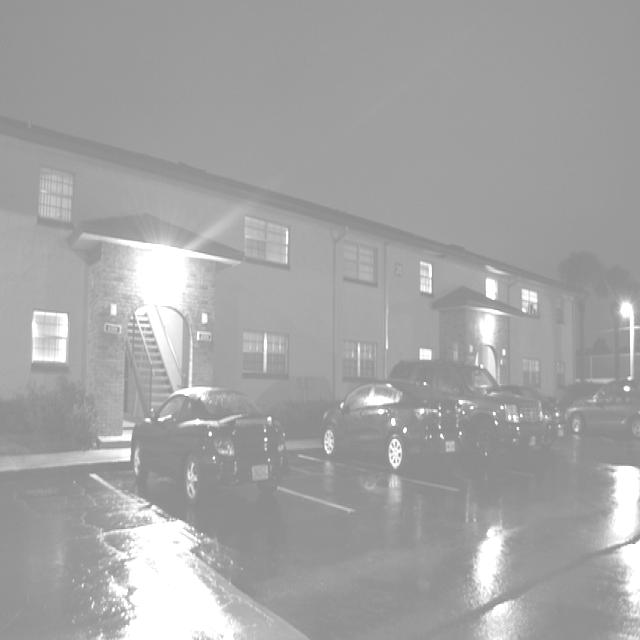Car: (131, 381, 291, 512), (394, 357, 548, 467), (326, 381, 465, 474), (555, 379, 640, 443)
